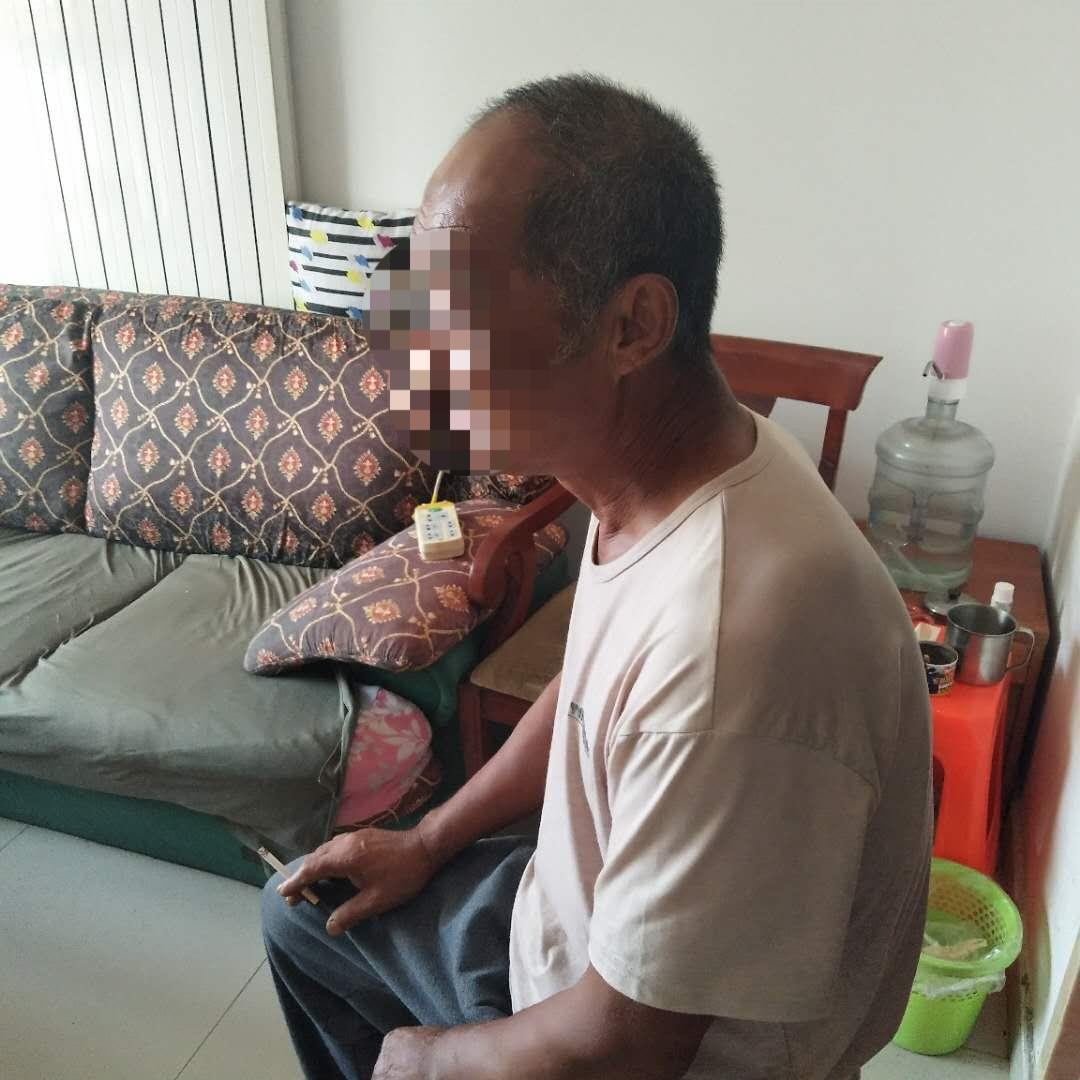smoke: (253, 845, 323, 913)
